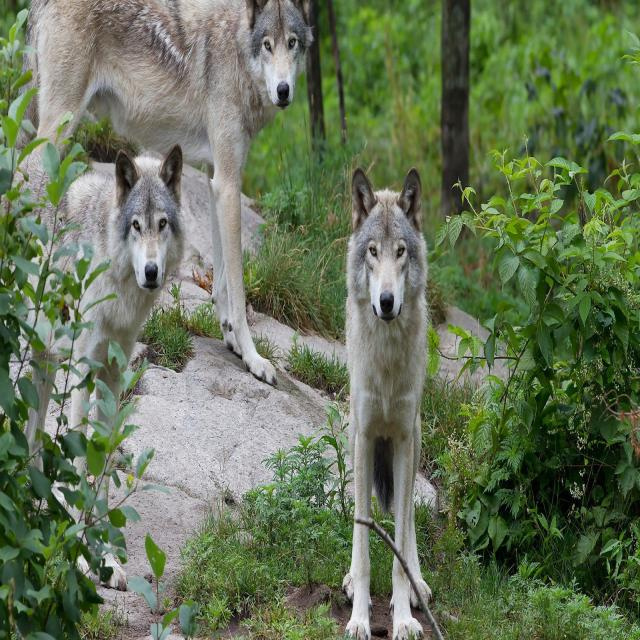Wolf: (2, 0, 314, 389), (2, 140, 186, 590), (341, 164, 434, 638)
